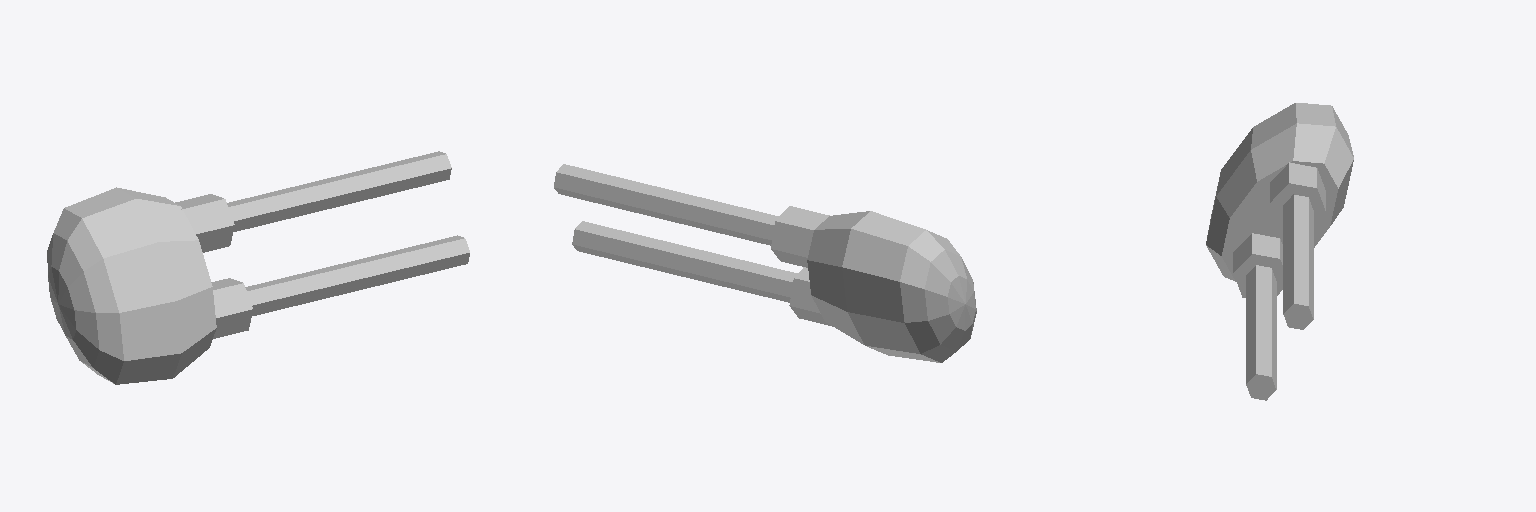
Rendered from rightgun.obj.
3 views of the same model, side by side, from view 1: azimuth 30°, elevation 25°; view 2: azimuth 150°, elevation 25°; view 3: azimuth 270°, elevation 25° (orthographic).
Parts seen in each view (by area): view 1: cylinder8_sep67, cylinder8_sep68, cylinder8_sep64, cylinder8_sep65, cylinder8_sep66; view 2: cylinder8_sep67, cylinder8_sep64, cylinder8_sep68, cylinder8_sep65, cylinder8_sep66; view 3: cylinder8_sep67, cylinder8_sep68, cylinder8_sep64, cylinder8_sep65, cylinder8_sep66.
Boxes of the visible parts, <box> form: cylinder8_sep67: <box>47,187,216,384</box>; cylinder8_sep68: <box>227,151,451,231</box>; cylinder8_sep64: <box>245,235,469,315</box>; cylinder8_sep65: <box>175,194,234,252</box>; cylinder8_sep66: <box>211,278,252,338</box>; cylinder8_sep67: <box>807,211,976,362</box>; cylinder8_sep64: <box>572,221,797,302</box>; cylinder8_sep68: <box>554,164,778,245</box>; cylinder8_sep65: <box>771,206,829,267</box>; cylinder8_sep66: <box>789,267,832,326</box>; cylinder8_sep67: <box>1206,103,1353,281</box>; cylinder8_sep68: <box>1283,194,1313,329</box>; cylinder8_sep64: <box>1246,265,1276,400</box>; cylinder8_sep65: <box>1270,162,1325,227</box>; cylinder8_sep66: <box>1233,233,1282,297</box>.
Bounding box in the file's own units: 7.73 × 2.93 × 2.51.